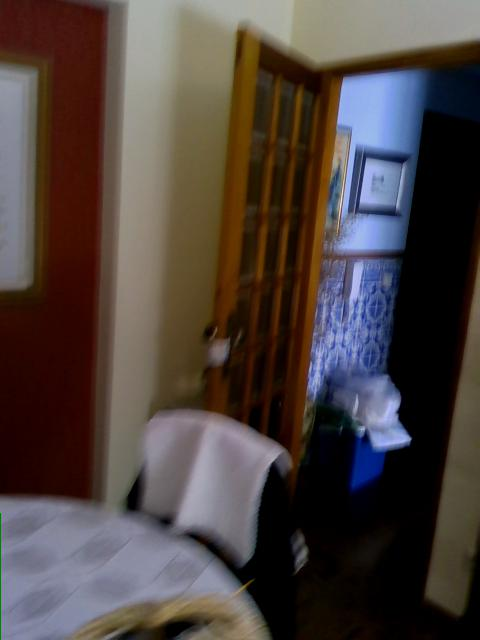open_door: (258, 36, 479, 590)
